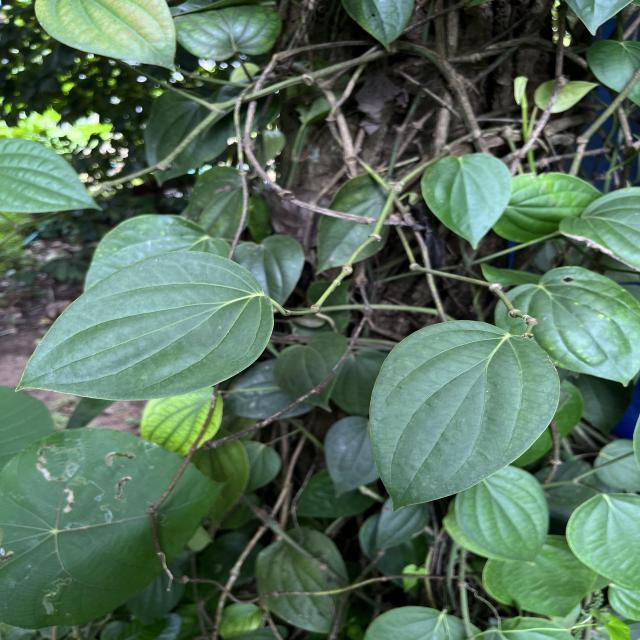Piper nigrum: (13, 249, 279, 402)
